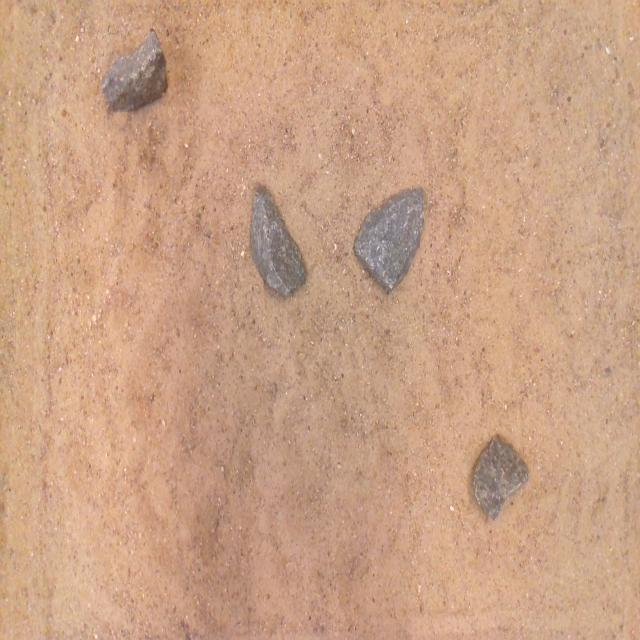rock: (354, 188, 423, 292), (251, 185, 305, 296), (102, 28, 167, 110), (473, 435, 528, 519)
